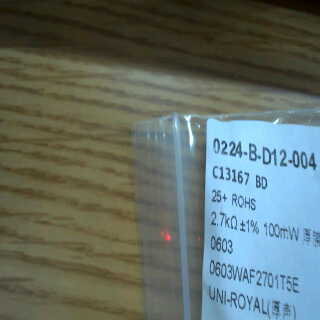2.7kR: (207, 210, 240, 237)
